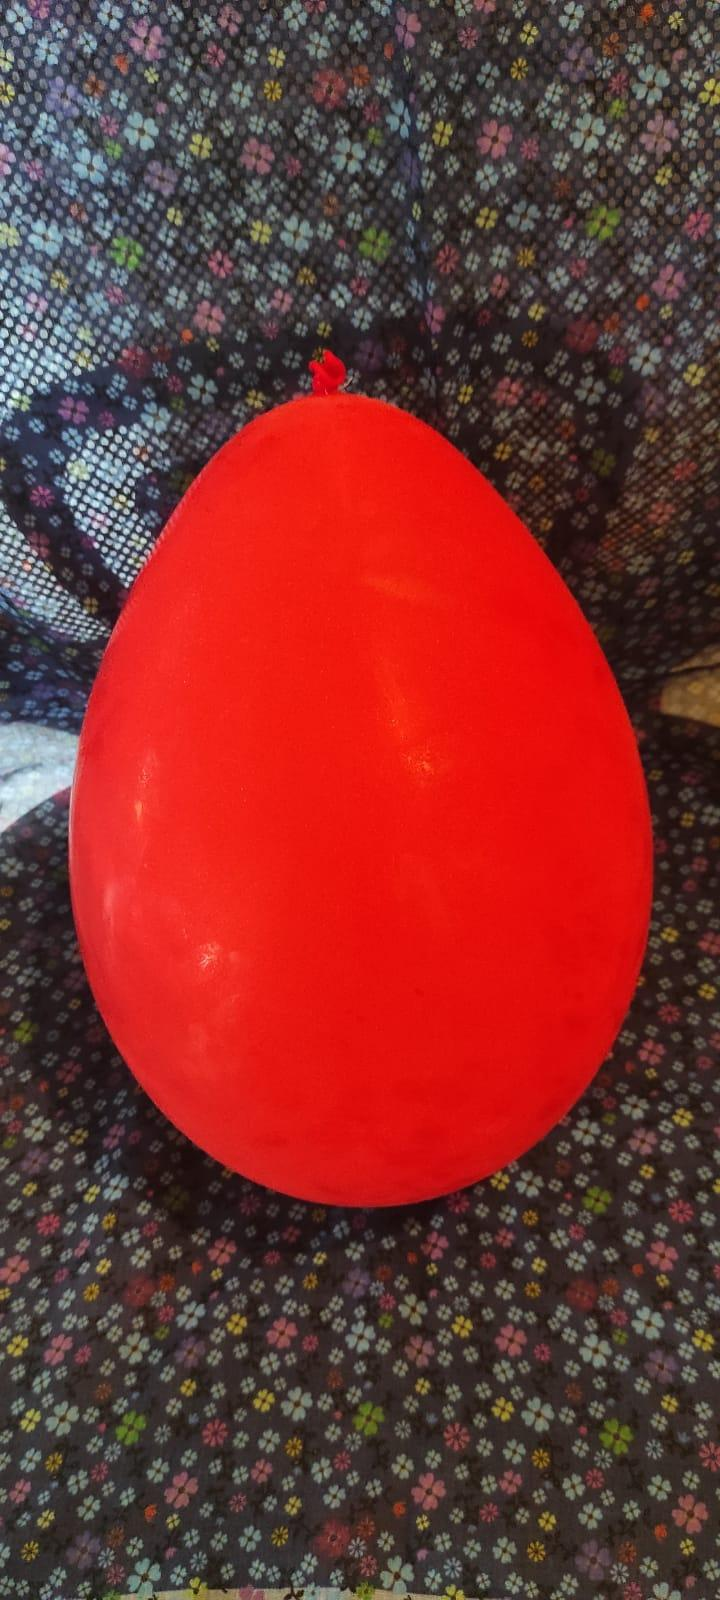red: (67, 347, 658, 1221)
